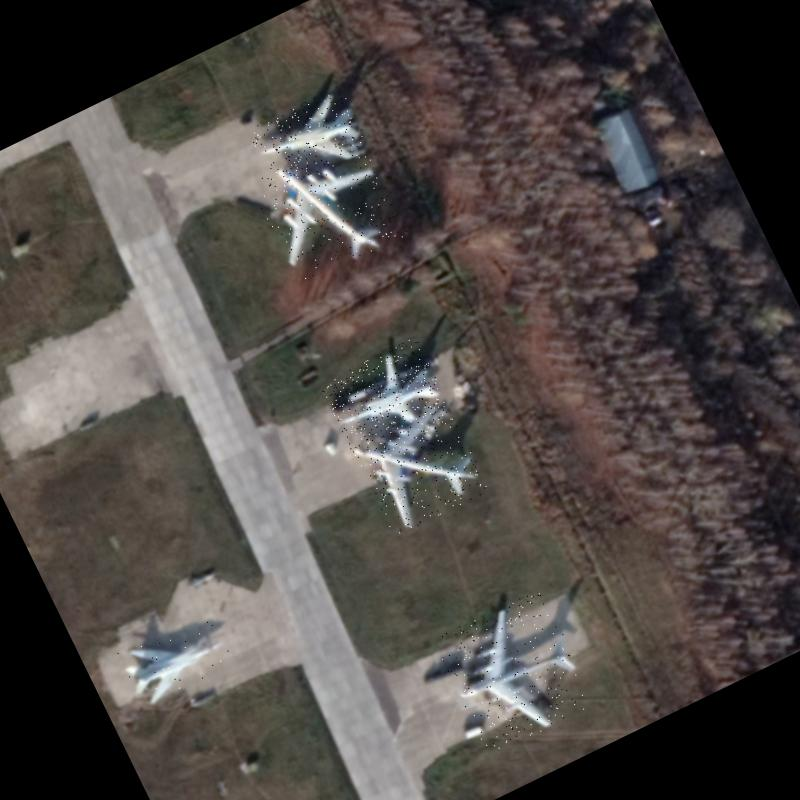A12: (318, 336, 449, 451), (246, 84, 371, 194), (114, 607, 236, 710)
A17: (432, 586, 598, 756), (247, 128, 408, 288), (348, 394, 490, 536)
